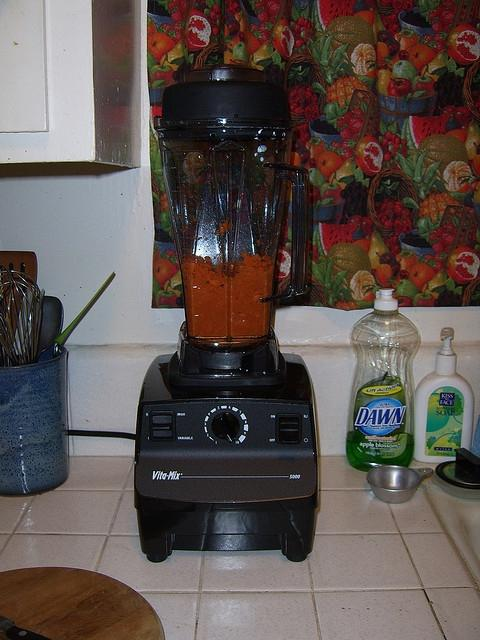watermelon: (417, 134, 469, 172), (327, 243, 372, 286), (401, 114, 451, 152), (313, 222, 359, 257), (316, 0, 356, 32)
